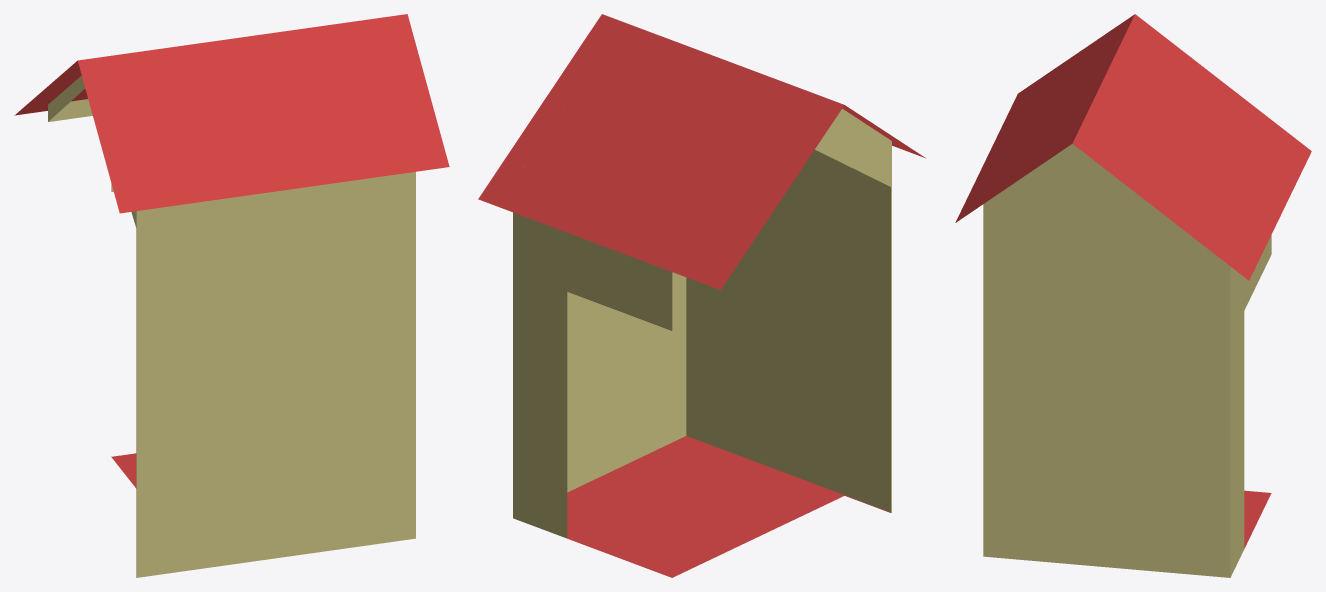
3 views of the same model, side by side, from view 1: azimuth 30°, elevation 25°; view 2: azimuth 150°, elevation 25°; view 3: azimuth 270°, elevation 25° (orthographic). The views are drawn at different scales.
Bounding box in the file's own units: 11.47 × 11.15 × 14.86.
